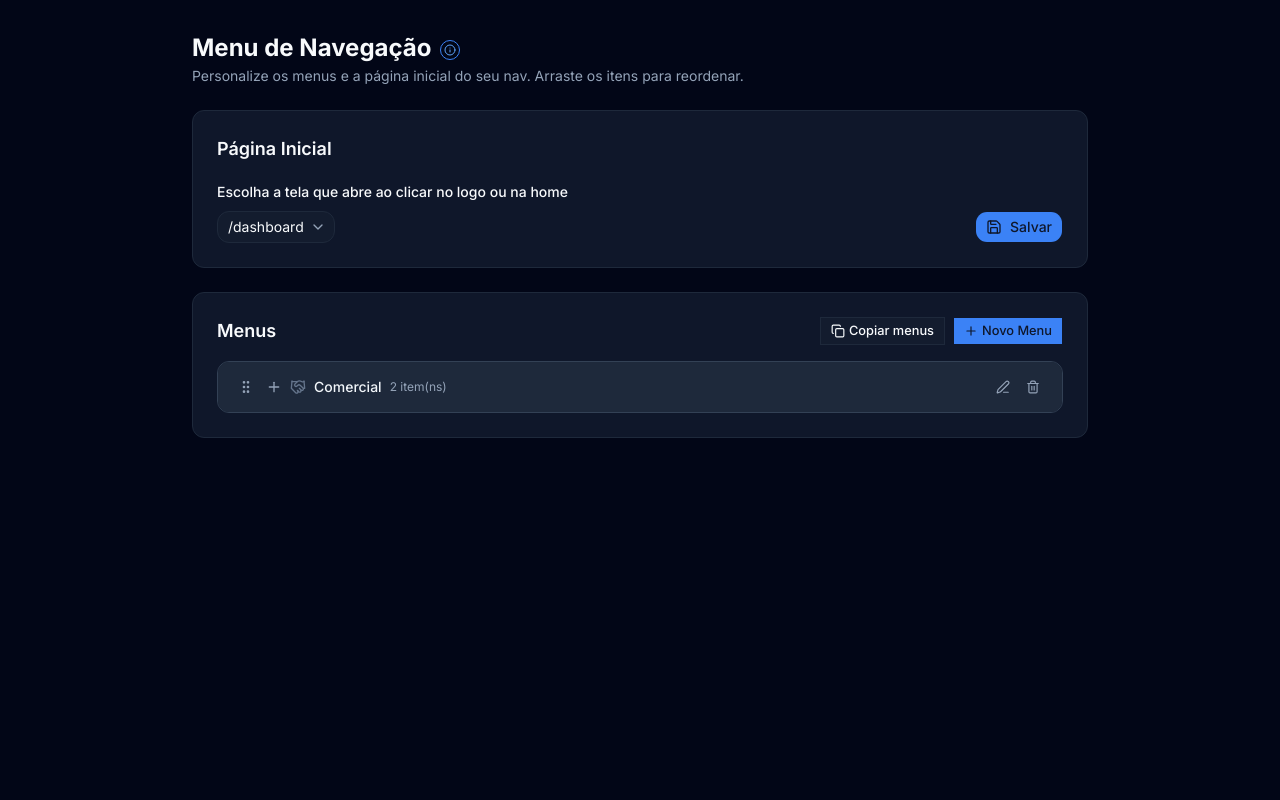
Test: ConfigurarMenusPage › cria um menu via dialog
Expected: the text "Comercial" is shown, [314,377,382,397]
Click the button "Novo Menu": (1008, 331) [953,317,1063,345]
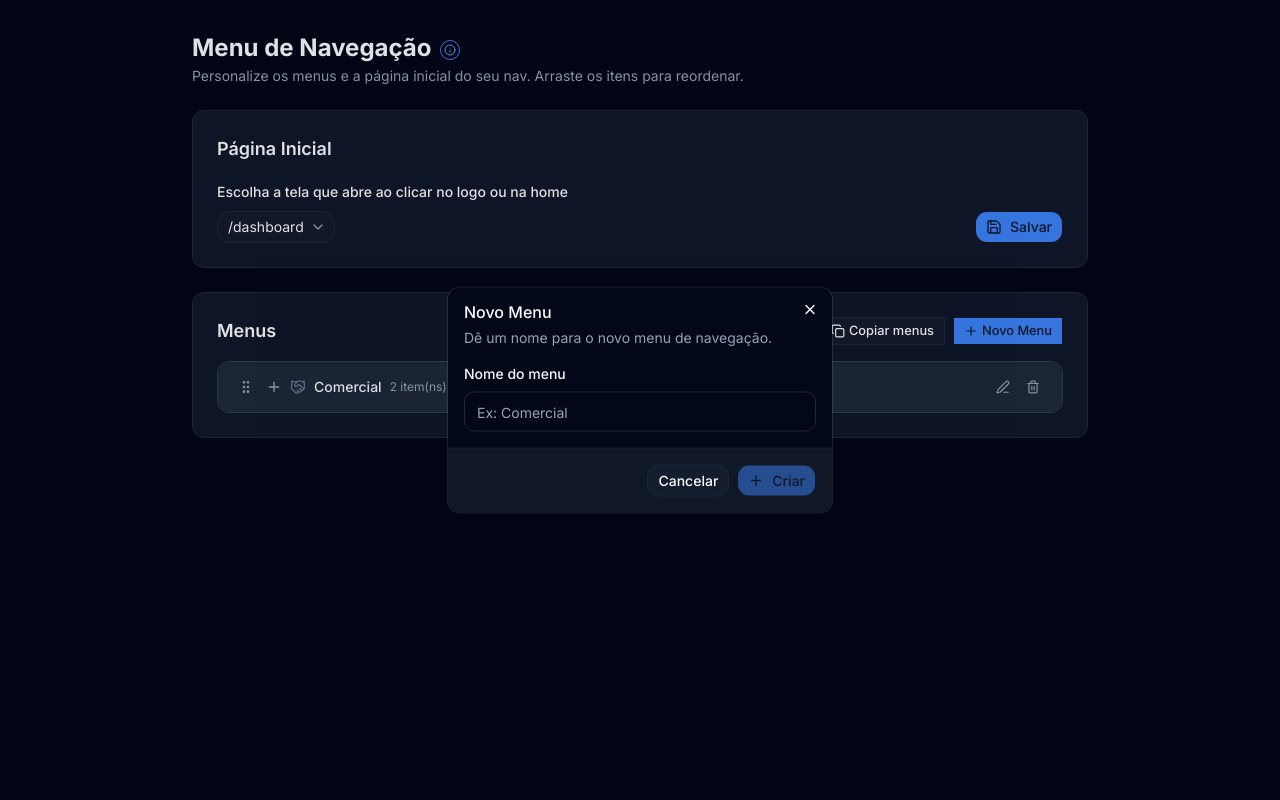
In the field with placeholder "Ex: Comercial": (640, 412) [464,392,816,432], type "Financeiro"
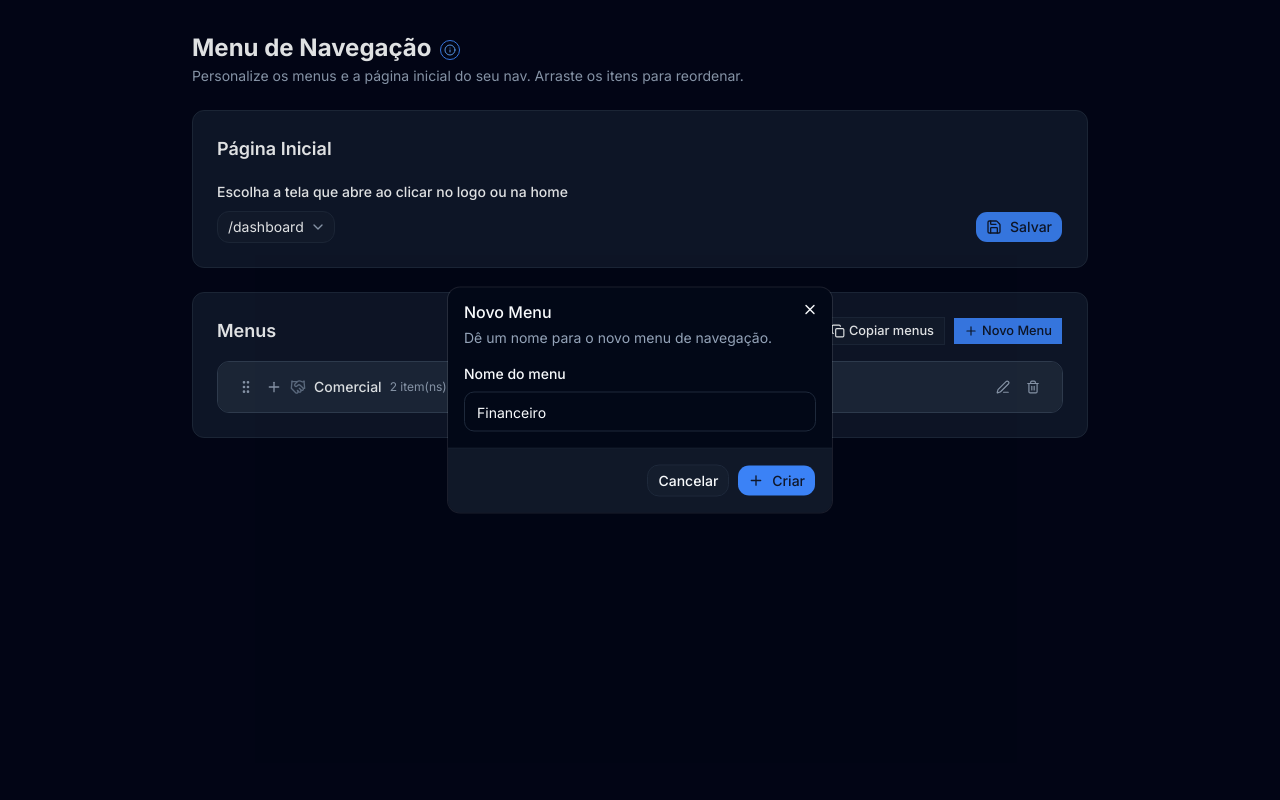
Click the button "Criar": (777, 480) [737,464,816,496]
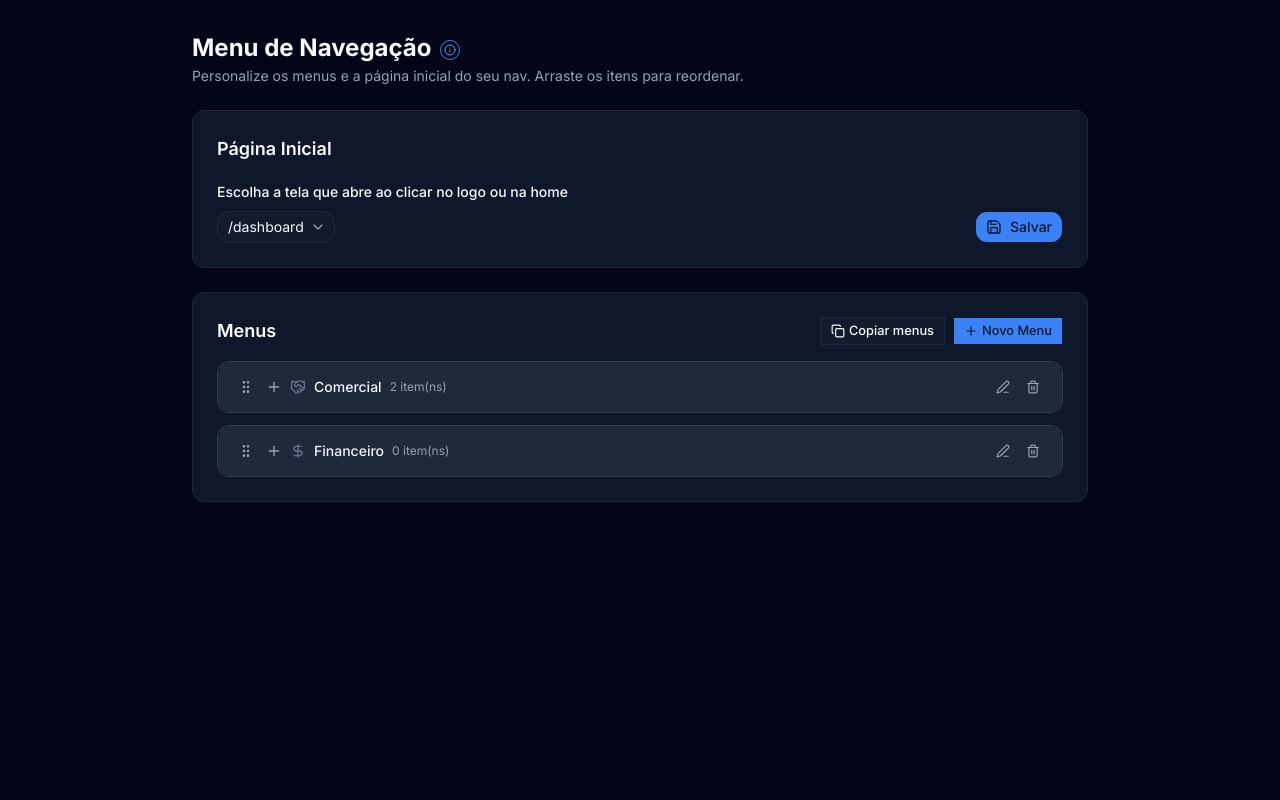
Now the text "Financeiro" is shown, box [314,441,384,461]
